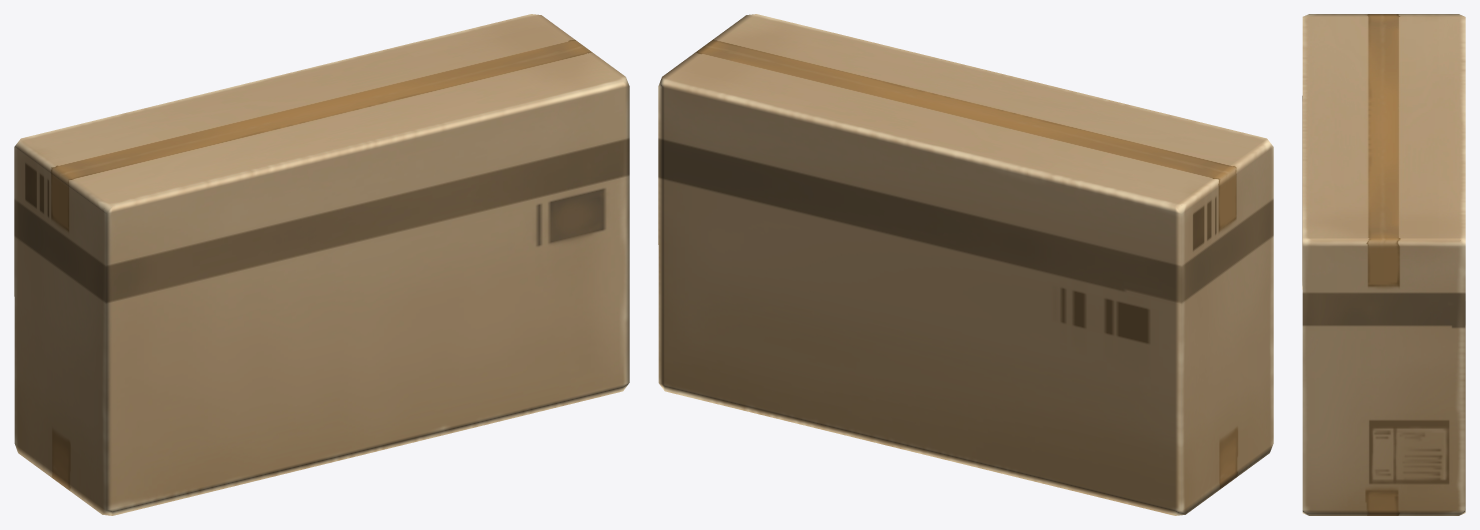
3 views of the same model, side by side, from view 1: azimuth 30°, elevation 25°; view 2: azimuth 150°, elevation 25°; view 3: azimuth 270°, elevation 25° (orthographic). The views are drawn at different scales.
Visible parts, largest first — view 1: Box02; view 2: Box02; view 3: Box02.
Part boxes in pixels (x1,y1,x2,y2): Box02: (14,14,629,515); Box02: (658,14,1273,515); Box02: (1302,14,1465,515).
Bounding box in the file's own units: 34.95 × 19.79 × 10.63.
1 material, 1 textured.
